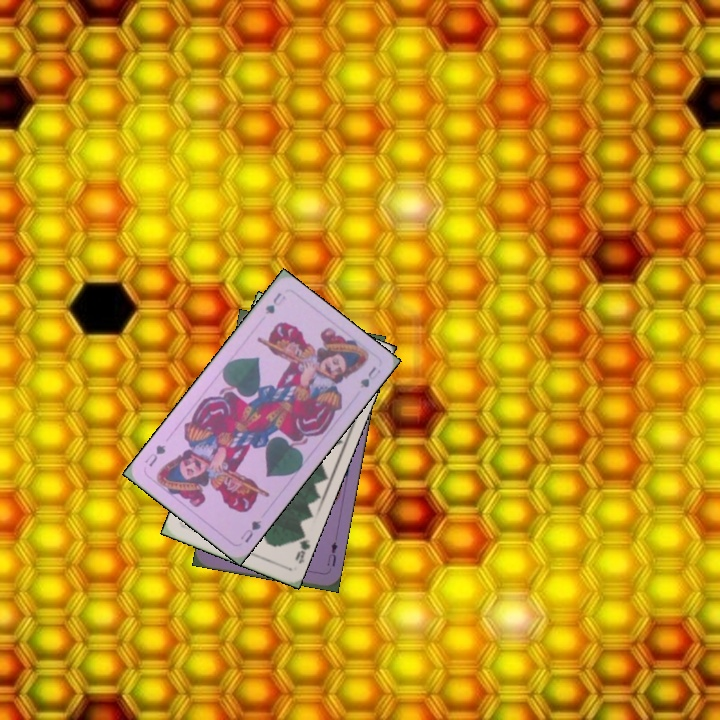EU: (323, 538, 340, 569)
G9: (291, 529, 313, 566)
GU: (236, 516, 264, 545), (261, 288, 288, 317)
